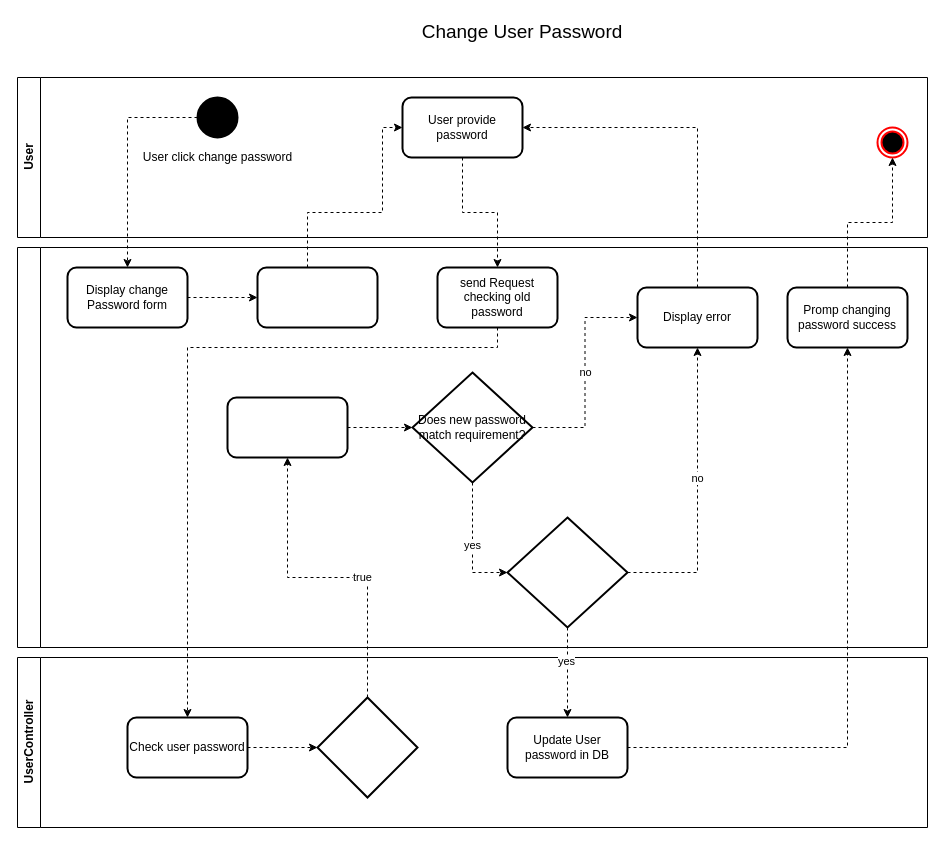
The diagram is 945 pixels wide and 845 high, and some of its shapes have lost their labels. Here are the shapes that lost their labels. From the top down, the box of each, then its label:
(256, 266, 378, 328): Ask for old and new Password
(226, 396, 348, 458): Validating new Password
(16, 246, 928, 648): ProfileController
(506, 516, 628, 628): Does retyping password match new password?
(316, 696, 418, 798): Is password true?
